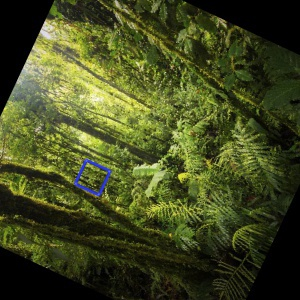square: (74, 158, 112, 199)
